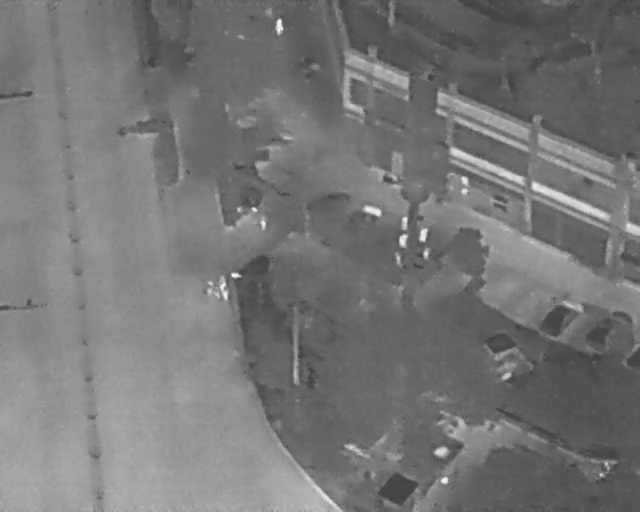Car: (585, 302, 639, 358), (535, 288, 587, 344), (624, 343, 639, 371)
Person: (218, 275, 230, 299), (205, 279, 214, 296), (275, 19, 283, 34), (213, 285, 220, 299)
